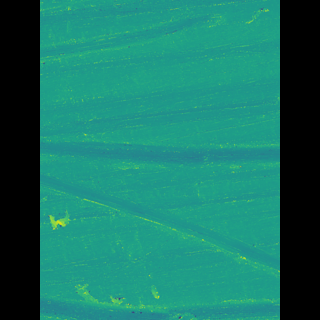Loch: (70, 170, 250, 279), (69, 9, 209, 63), (70, 137, 250, 167), (68, 301, 250, 319)
